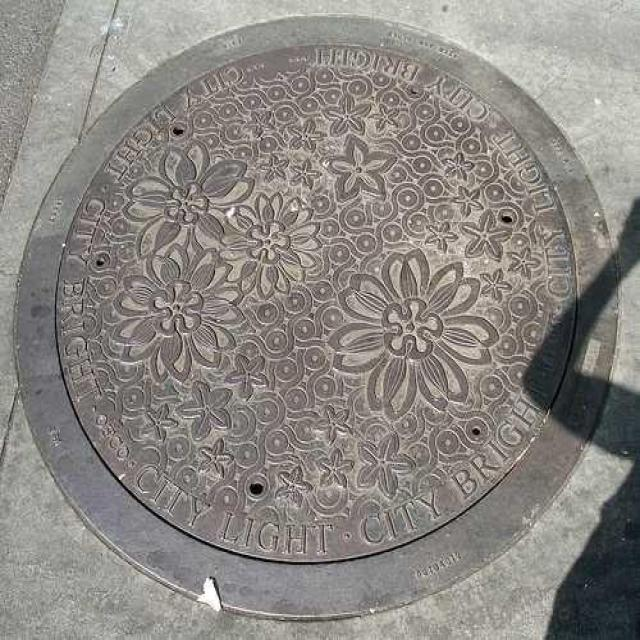manhole: (16, 18, 615, 617)
